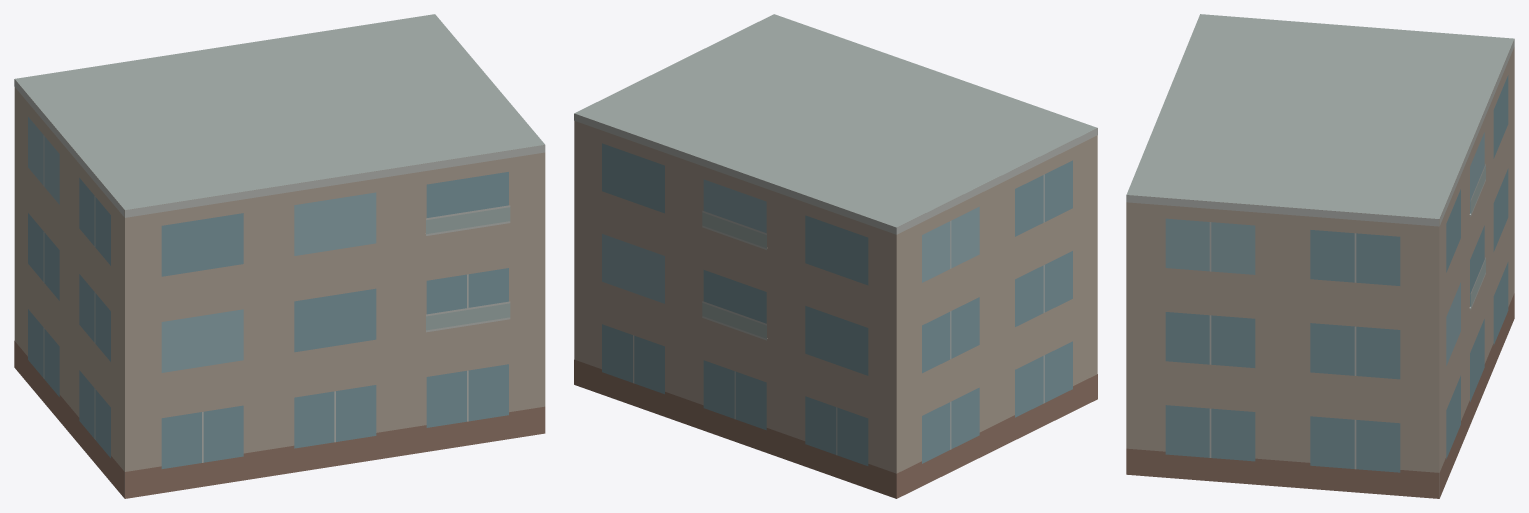
Rendered from survey-upis-33025672.glb.
The picture shows the model from 3 angles, left to right: view 1: azimuth 30°, elevation 25°; view 2: azimuth 150°, elevation 25°; view 3: azimuth 270°, elevation 25°; orthographic projection. The views are drawn at different scales.
Visible parts, largest first — view 1: survey-upis-33025672.tmp; view 2: survey-upis-33025672.tmp; view 3: survey-upis-33025672.tmp.
Boxes of the visible parts, x1,y1,x2,y2 form: survey-upis-33025672.tmp: [14, 14, 545, 498]; survey-upis-33025672.tmp: [574, 14, 1097, 498]; survey-upis-33025672.tmp: [1126, 14, 1514, 498].
Bounding box in the file's own units: 14.4 × 9.15 × 11.52.
